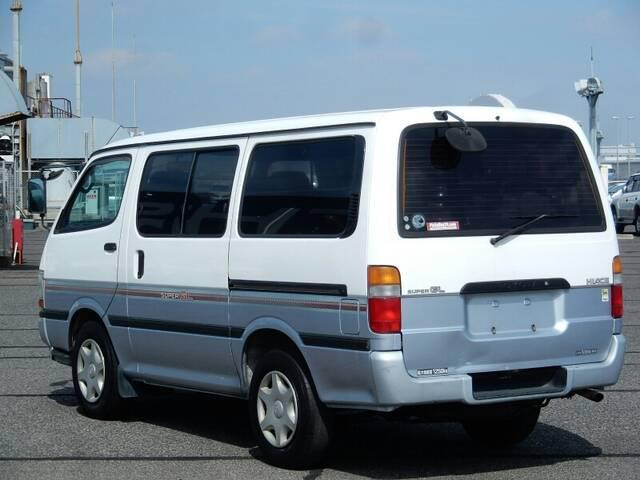Van: (39, 109, 629, 450)
